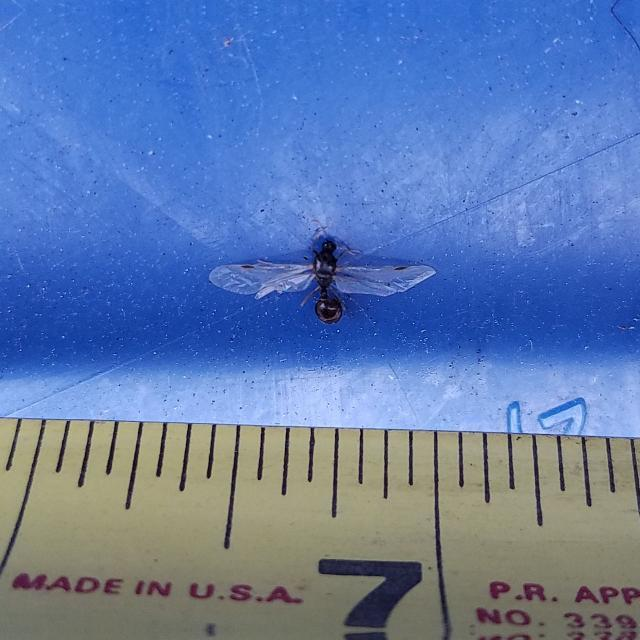Tetramorium: (294, 232, 356, 328)
